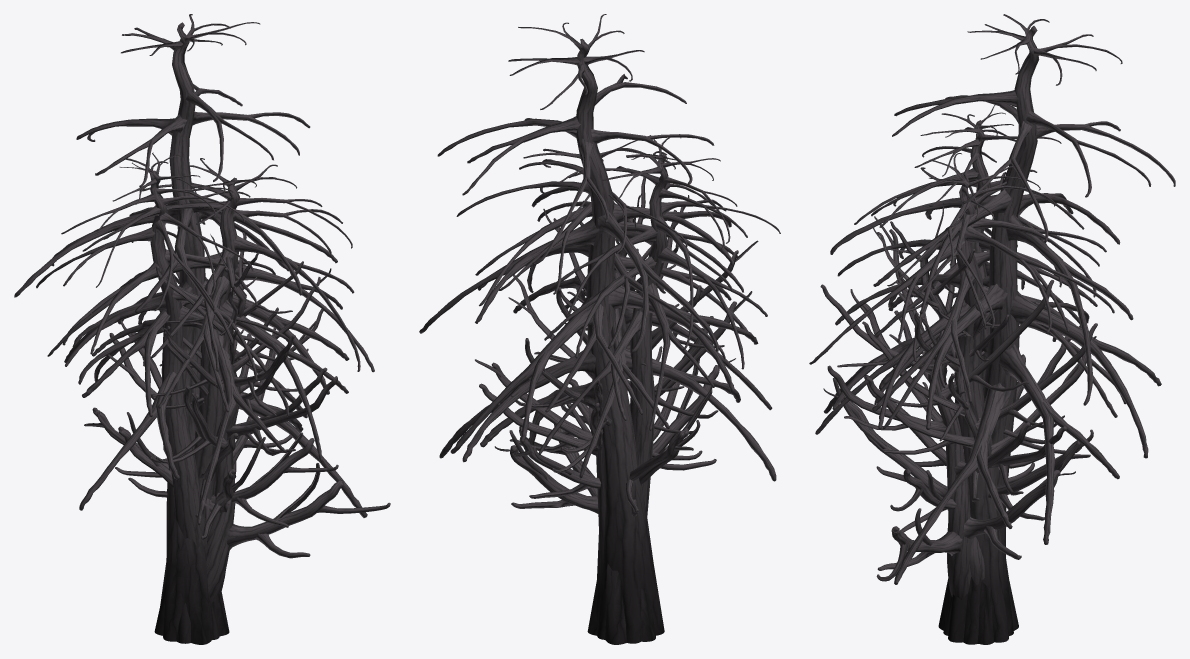
The model's file is trees_dead.glb.
3 views of the same model, side by side, from view 1: azimuth 30°, elevation 25°; view 2: azimuth 150°, elevation 25°; view 3: azimuth 270°, elevation 25° (orthographic). The views are drawn at different scales.
Visible parts, largest first — view 1: DeadTree_5, DeadTree_4, DeadTree_2, DeadTree_3, DeadTree_1; view 2: DeadTree_5, DeadTree_4, DeadTree_3, DeadTree_2, DeadTree_1; view 3: DeadTree_5, DeadTree_4, DeadTree_2, DeadTree_1, DeadTree_3.
Part boxes in pixels (box(x1,y1,x2,y2)): DeadTree_5: box(14, 14, 367, 644); DeadTree_4: box(62, 158, 374, 643); DeadTree_2: box(118, 232, 390, 601); DeadTree_3: box(36, 152, 289, 548); DeadTree_1: box(84, 272, 338, 535); DeadTree_5: box(419, 14, 776, 643); DeadTree_4: box(456, 140, 772, 644); DeadTree_3: box(532, 135, 780, 516); DeadTree_2: box(475, 177, 758, 516); DeadTree_1: box(479, 248, 713, 512); DeadTree_5: box(830, 14, 1175, 644); DeadTree_4: box(809, 153, 1125, 644); DeadTree_2: box(820, 203, 1081, 599); DeadTree_1: box(862, 275, 1097, 585); DeadTree_3: box(854, 105, 1117, 643).
Size of the model in its own units: 8.57 by 16.44 by 8.93.
1 material, 1 textured.
